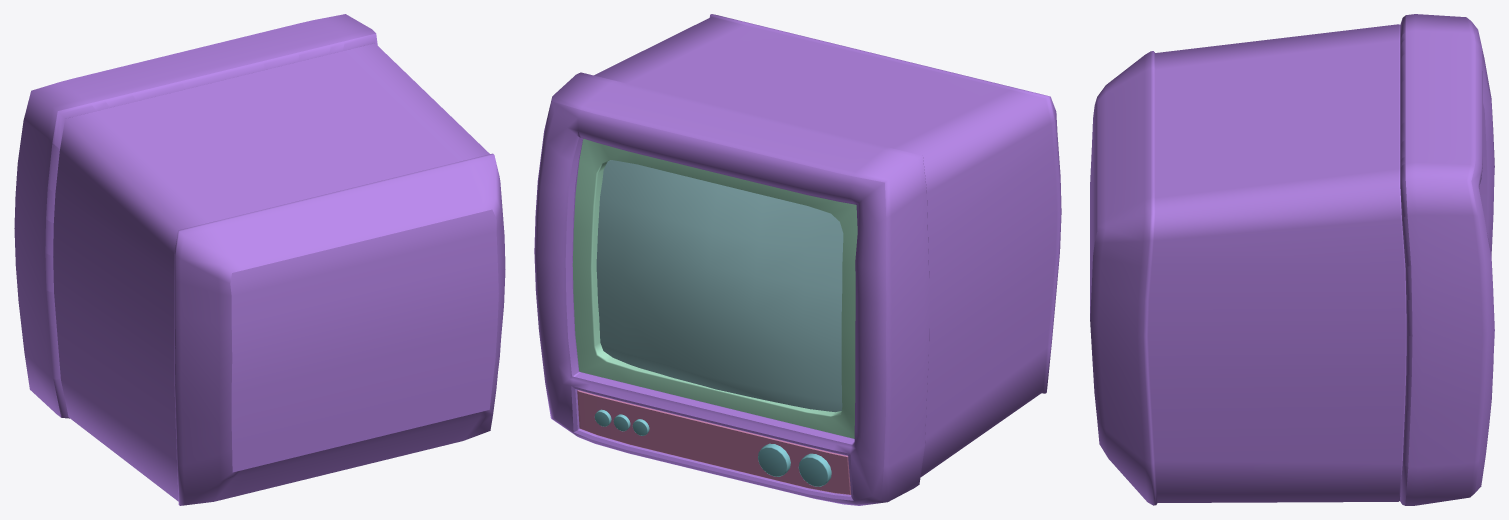
The model's file is Friday_Abby_TV.fbx.
The picture shows the model from 3 angles, left to right: view 1: azimuth 30°, elevation 25°; view 2: azimuth 150°, elevation 25°; view 3: azimuth 270°, elevation 25°; orthographic projection. The views are drawn at different scales.
Parts seen in each view (by area): view 1: TV_Set; view 2: TV_Set, Screen, TV_Set1, Buttons, Buttons1; view 3: TV_Set.
Part boxes in pixels (left/top/right/bottom): TV_Set: left=14, top=14, right=505, bottom=505; TV_Set: left=534, top=14, right=1061, bottom=505; Screen: left=596, top=160, right=843, bottom=412; TV_Set1: left=572, top=138, right=857, bottom=438; Buttons: left=577, top=390, right=851, bottom=494; Buttons1: left=594, top=409, right=831, bottom=486; TV_Set: left=1090, top=14, right=1494, bottom=505.
Size of the model in its own units: 167 by 151 by 164.
